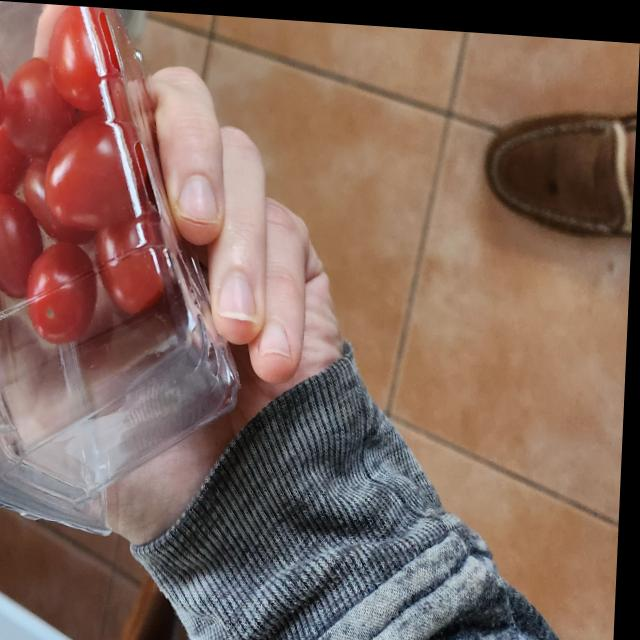tomato: (0, 1, 256, 536)
